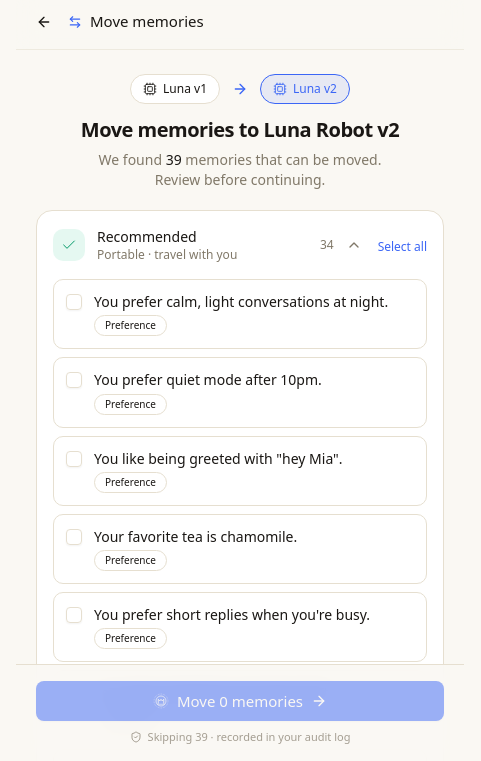
Test case: migration preview › selects recommended memories without collapsing the bucket
Check: the text "You prefer calm, light conversations at night." is shown, box [94,292,414,311]
Click the button "Select all".
click(402, 247)  # box [378,239,427,255]
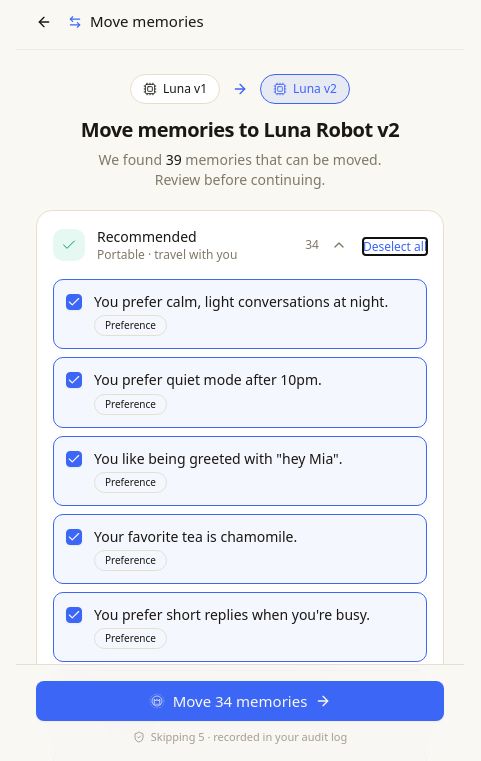
Check: the text "You prefer calm, light conversations at night." is shown, box [94,292,414,311]
Check: the button "Deselect all" is shown, box [363,239,427,255]
